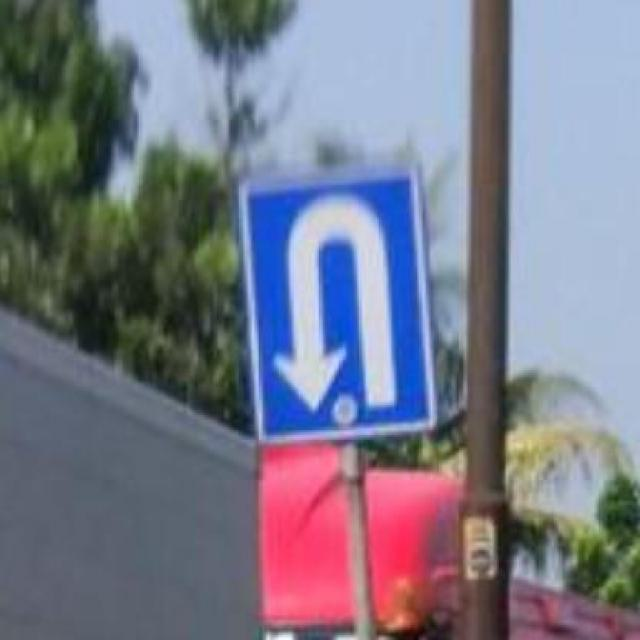U-turn: (243, 181, 426, 433)
